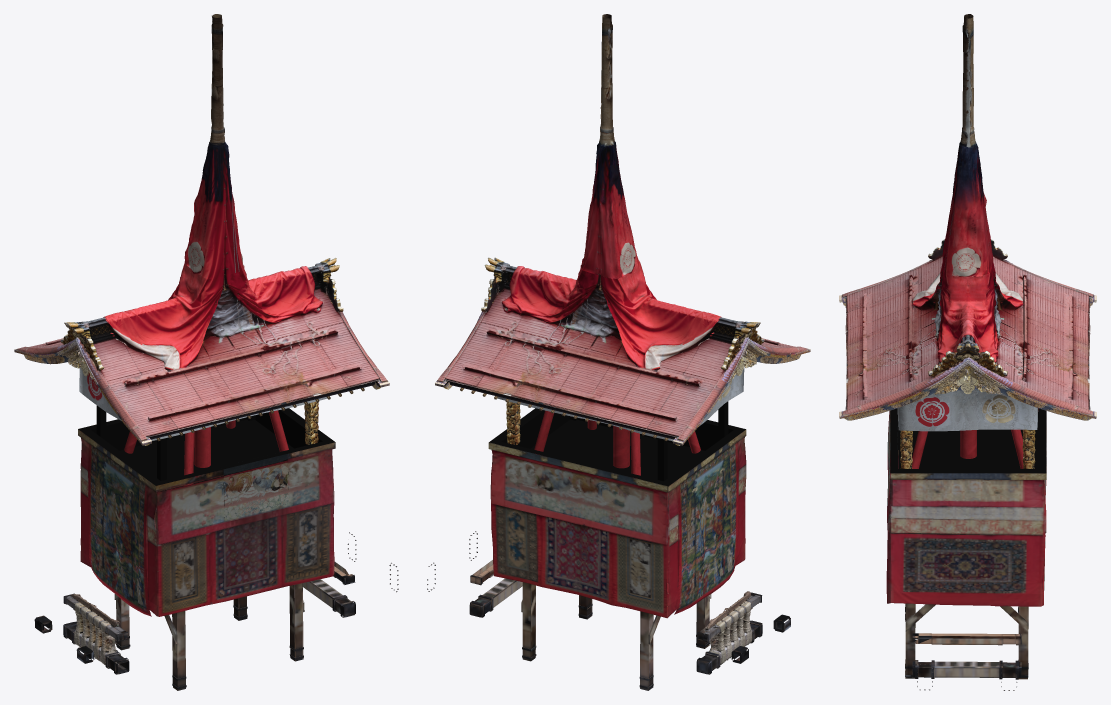
File: kankoboko.glb
3 views of the same model, side by side, from view 1: azimuth 30°, elevation 25°; view 2: azimuth 150°, elevation 25°; view 3: azimuth 270°, elevation 25° (orthographic).
Visible parts, largest first — view 1: Object_5, Object_19, Object_15, Object_21, Object_31, Object_16, Object_10, Object_7, Object_29, Object_20, Object_18, Object_6 (+7 smaller); view 2: Object_5, Object_19, Object_15, Object_21, Object_31, Object_16, Object_7, Object_29, Object_20, Object_18, Object_6, Object_25 (+6 smaller); view 3: Object_5, Object_19, Object_15, Object_21, Object_31, Object_16, Object_11, Object_6, Object_7, Object_3, Object_20, Object_18 (+6 smaller).
Boxes of the visible parts, x1,y1,x2,y2 form: Object_5: (78,420,335,616); Object_19: (30,289,379,436); Object_15: (103,263,322,371); Object_21: (78,405,335,517); Object_31: (34,532,398,690); Object_16: (184,142,243,279); Object_10: (220,451,288,519); Object_7: (45,330,359,420); Object_29: (70,594,119,665); Object_20: (209,14,225,146); Object_18: (60,258,343,370); Object_6: (16,312,387,441); Object_5: (488,430,746,618); Object_19: (445,289,795,436); Object_15: (501,263,721,371); Object_21: (489,401,745,486); Object_31: (427,531,790,690); Object_16: (580,142,639,278); Object_7: (464,330,779,420); Object_29: (704,591,752,664); Object_20: (599,14,615,146); Object_18: (481,257,764,370); Object_6: (437,311,808,441); Object_25: (534,410,700,478); Object_5: (886,410,1046,606); Object_19: (847,256,1088,409); Object_15: (912,262,1023,364); Object_21: (890,408,1046,473); Object_31: (905,603,1028,690); Object_16: (942,142,993,276); Object_11: (897,389,1038,431); Object_6: (842,259,1093,415); Object_7: (862,274,1073,398); Object_3: (839,295,1096,420); Object_20: (960,14,976,147); Object_18: (928,239,1007,377).
Size of the model in its own units: 5.33 by 10.29 by 3.77.
26 materials, 25 textured.
